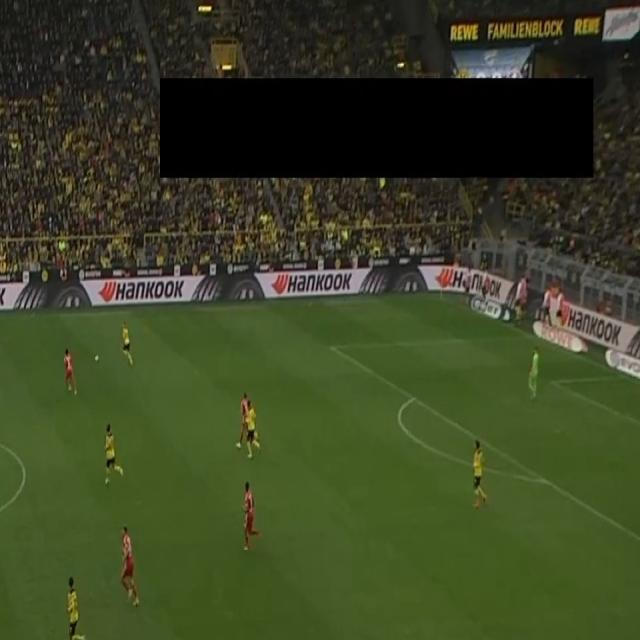ball: (93, 352, 100, 364)
